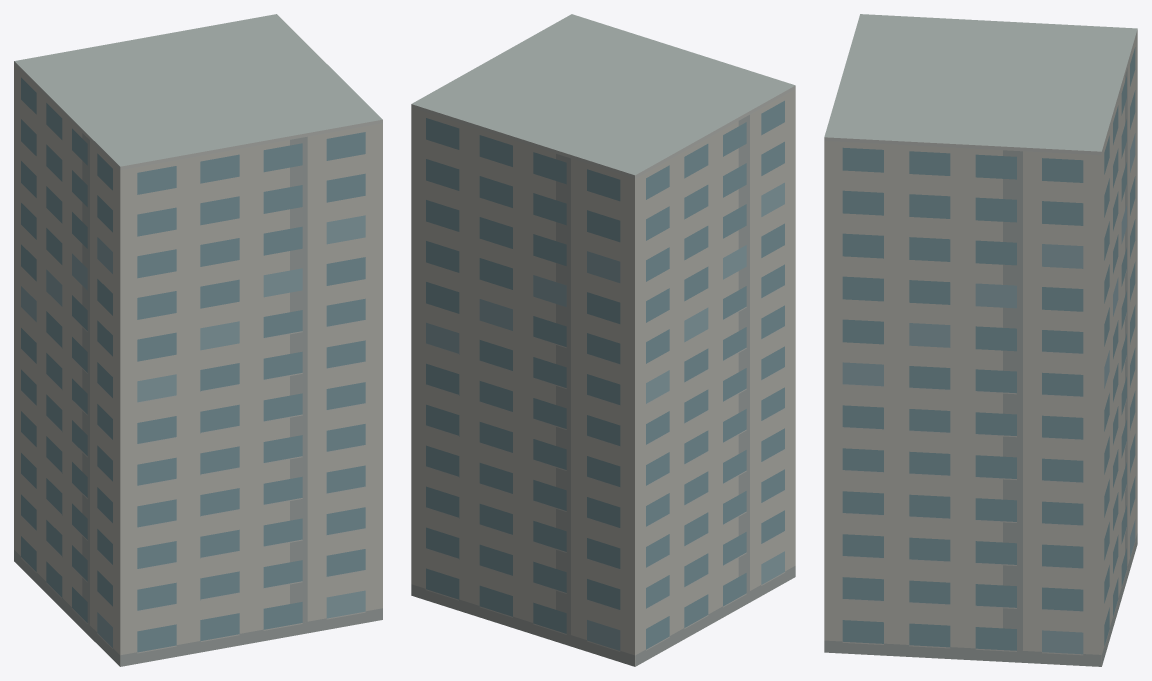
The model's file is residential-7d35f4bd-b350-43c4-b6b9-89bd514162f5.glb.
3 views of the same model, side by side, from view 1: azimuth 30°, elevation 25°; view 2: azimuth 150°, elevation 25°; view 3: azimuth 270°, elevation 25° (orthographic). The views are drawn at different scales.
Parts seen in each view (by area): view 1: residential-7d35f4bd-b350-43c4-b6b9-89bd514162f5.tmp; view 2: residential-7d35f4bd-b350-43c4-b6b9-89bd514162f5.tmp; view 3: residential-7d35f4bd-b350-43c4-b6b9-89bd514162f5.tmp.
Part boxes in pixels (x1,y1,x2,y2): residential-7d35f4bd-b350-43c4-b6b9-89bd514162f5.tmp: (14, 14, 382, 666); residential-7d35f4bd-b350-43c4-b6b9-89bd514162f5.tmp: (411, 14, 795, 666); residential-7d35f4bd-b350-43c4-b6b9-89bd514162f5.tmp: (824, 14, 1137, 666).
Size of the model in its own units: 19.5 by 34 by 18.76.
